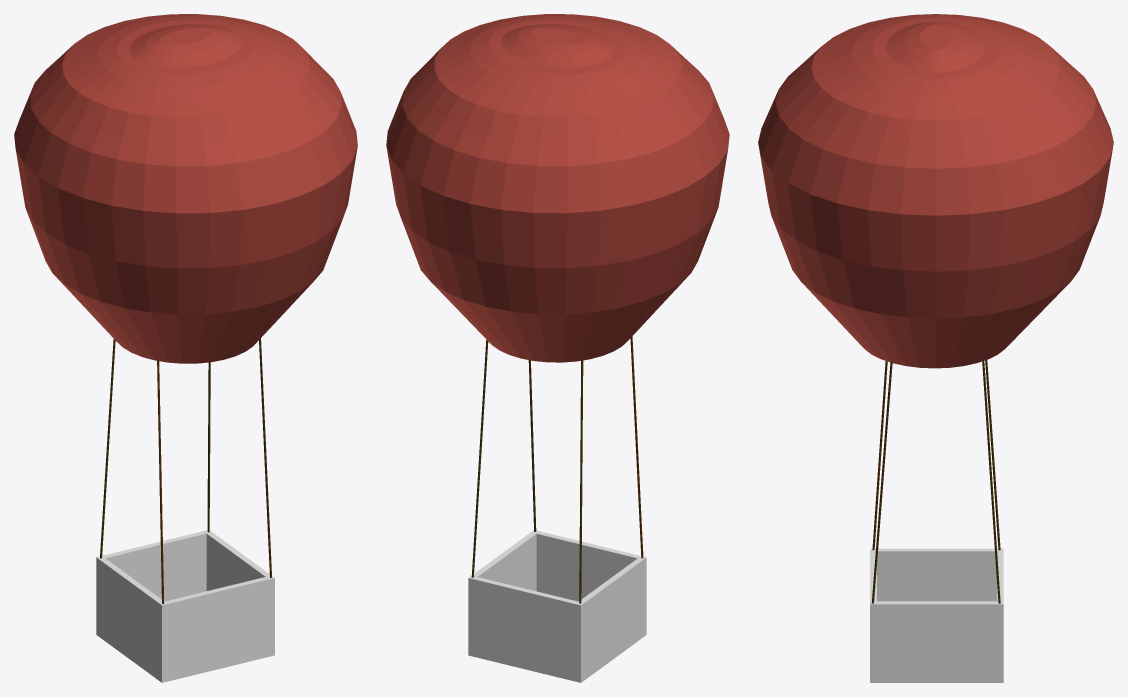
File: baloon.fbx
The picture shows the model from 3 angles, left to right: view 1: azimuth 30°, elevation 25°; view 2: azimuth 150°, elevation 25°; view 3: azimuth 270°, elevation 25°; orthographic projection.
Parts seen in each view (by area): view 1: Cylinder, Cube, Cylinder.004, Cylinder.001, Cylinder.003; view 2: Cylinder, Cube, Cylinder.003, Cylinder.002, Cylinder.004; view 3: Cylinder, Cube, Cylinder.002, Cylinder.001, Cylinder.003, Cylinder.004.
Boxes of the visible parts, box(x1,y1,x2,y2) form: Cylinder: box(14, 14, 357, 363); Cube: box(96, 530, 274, 682); Cylinder.004: box(157, 360, 164, 603); Cylinder.001: box(259, 338, 271, 577); Cylinder.003: box(100, 339, 115, 558); Cylinder: box(386, 14, 729, 362); Cube: box(468, 530, 646, 682); Cylinder.003: box(579, 360, 583, 603); Cylinder.002: box(471, 339, 488, 577); Cylinder.004: box(630, 336, 643, 558); Cylinder: box(758, 14, 1113, 368); Cube: box(870, 548, 1003, 682); Cylinder.002: box(982, 361, 1000, 603); Cylinder.001: box(871, 362, 892, 603); Cylinder.003: box(985, 360, 1000, 550); Cylinder.004: box(872, 361, 887, 550).
Bounding box in the file's own units: 349 × 685 × 358.
